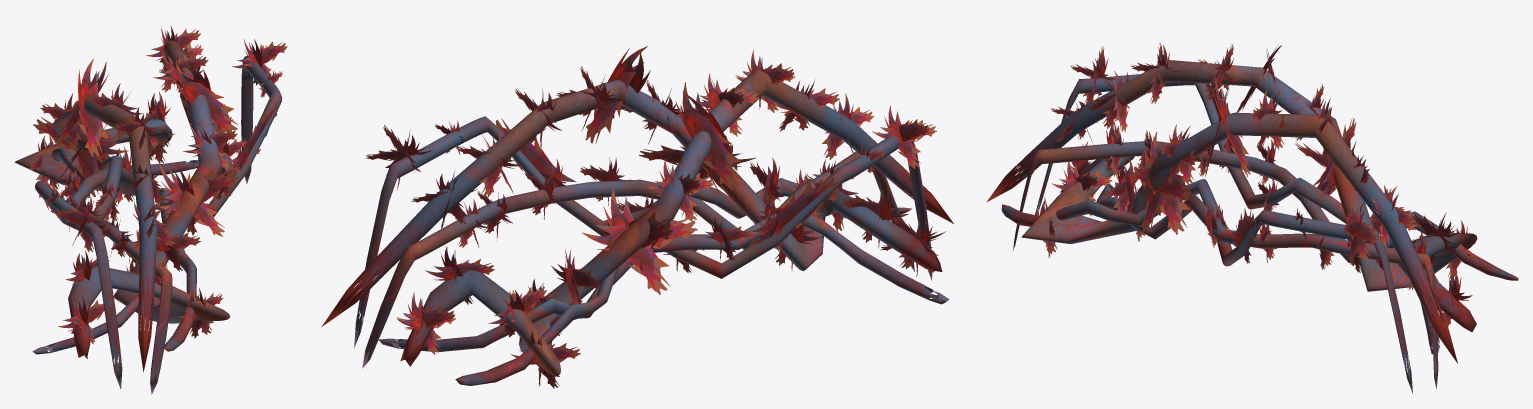
File: M_Ronces 1.FBX
3 renders of one model, left to right at view 1: azimuth 30°, elevation 25°; view 2: azimuth 150°, elevation 25°; view 3: azimuth 270°, elevation 25°, orthographic. The views are drawn at different scales.
Visible parts, largest first — view 1: Line007; view 2: Line007; view 3: Line007.
Boxes of the visible parts, x1=… form: Line007: x1=14, y1=25, x2=287, y2=394; Line007: x1=321, y1=46, x2=953, y2=388; Line007: x1=986, y1=42, x2=1518, y2=394.
Size of the model in its own units: 170 by 109 by 200.
